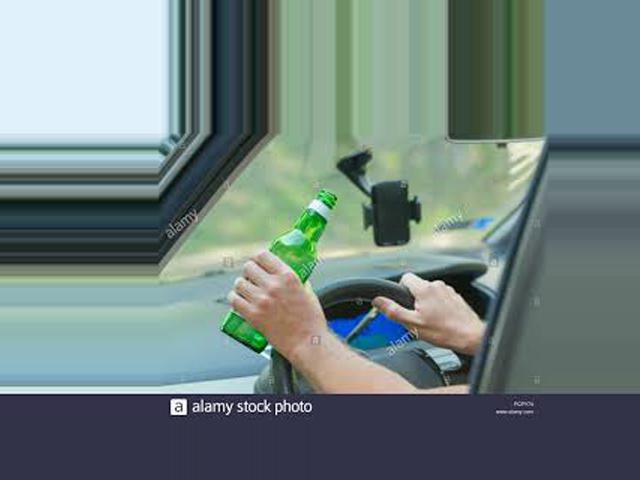beer: (224, 192, 336, 355)
